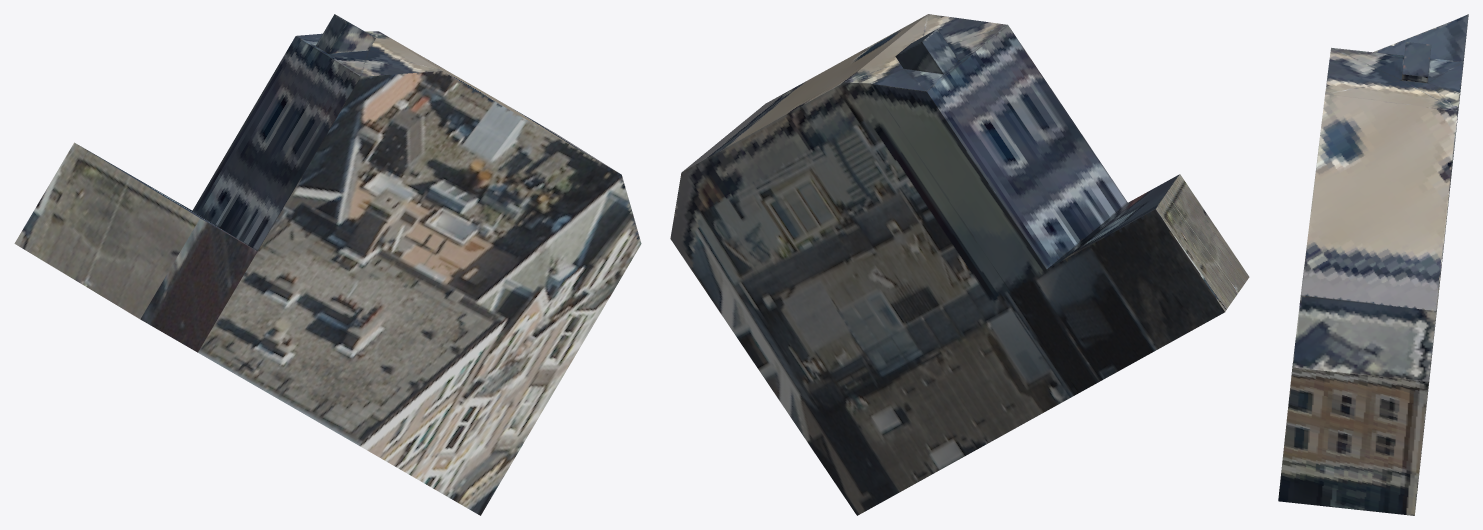
The picture shows the model from 3 angles, left to right: view 1: azimuth 30°, elevation 25°; view 2: azimuth 150°, elevation 25°; view 3: azimuth 270°, elevation 25°; orthographic projection. The views are drawn at different scales.
Visible parts, largest first — view 1: BAG_0599100000671730 (×3); view 2: BAG_0599100000671730 (×3); view 3: BAG_0599100000671730 (×4).
Boxes of the visible parts, left/top/right/bottom form: BAG_0599100000671730 (×3): left=14, top=14, right=641, bottom=515; BAG_0599100000671730 (×3): left=670, top=14, right=1249, bottom=515; BAG_0599100000671730 (×4): left=1278, top=14, right=1468, bottom=515.
Bounding box in the file's own units: 25.38 × 21.18 × 8.28.
Materials: 6 (5 with a texture image).
